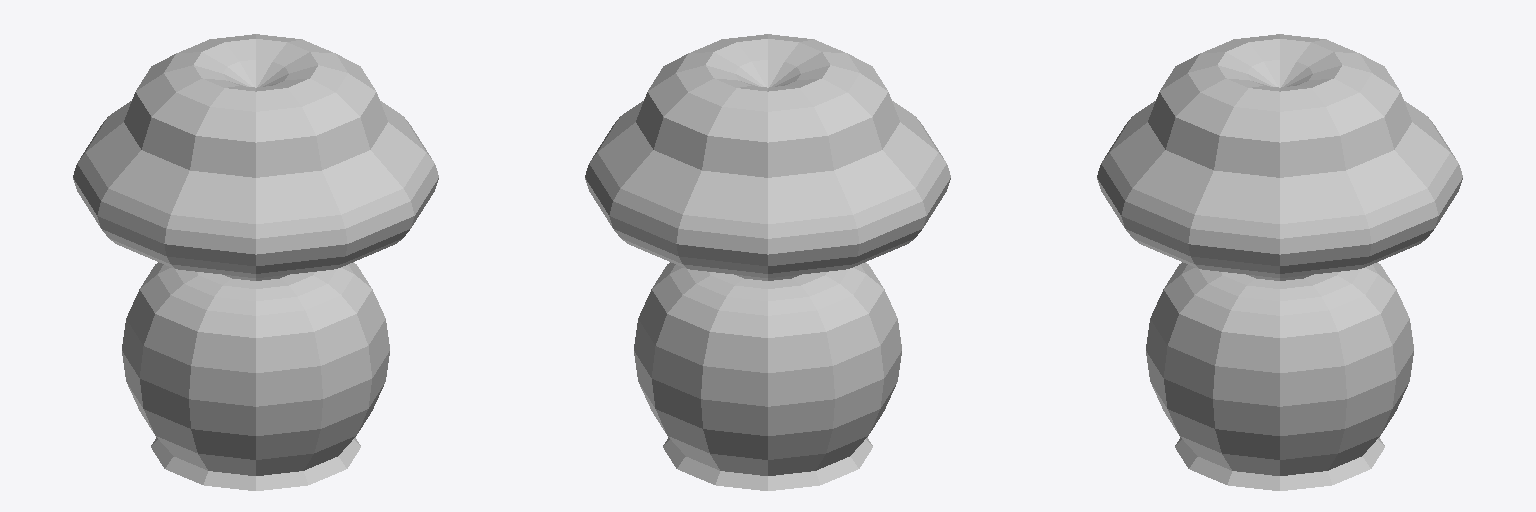
File: Lamp.obj
3 renders of one model, left to right at view 1: azimuth 30°, elevation 25°; view 2: azimuth 150°, elevation 25°; view 3: azimuth 270°, elevation 25°, orthographic.
Parts seen in each view (by area): view 1: Sphere.005, Sphere.003; view 2: Sphere.005, Sphere.003; view 3: Sphere.005, Sphere.003.
Part boxes in pixels (x1,y1,x2,y2): Sphere.005: (73,34,438,277); Sphere.003: (122,262,389,490); Sphere.005: (585,34,950,277); Sphere.003: (634,262,901,490); Sphere.005: (1097,34,1462,277); Sphere.003: (1146,262,1413,490).
Bounding box in the file's own units: 0.7195 × 0.8267 × 0.7195.